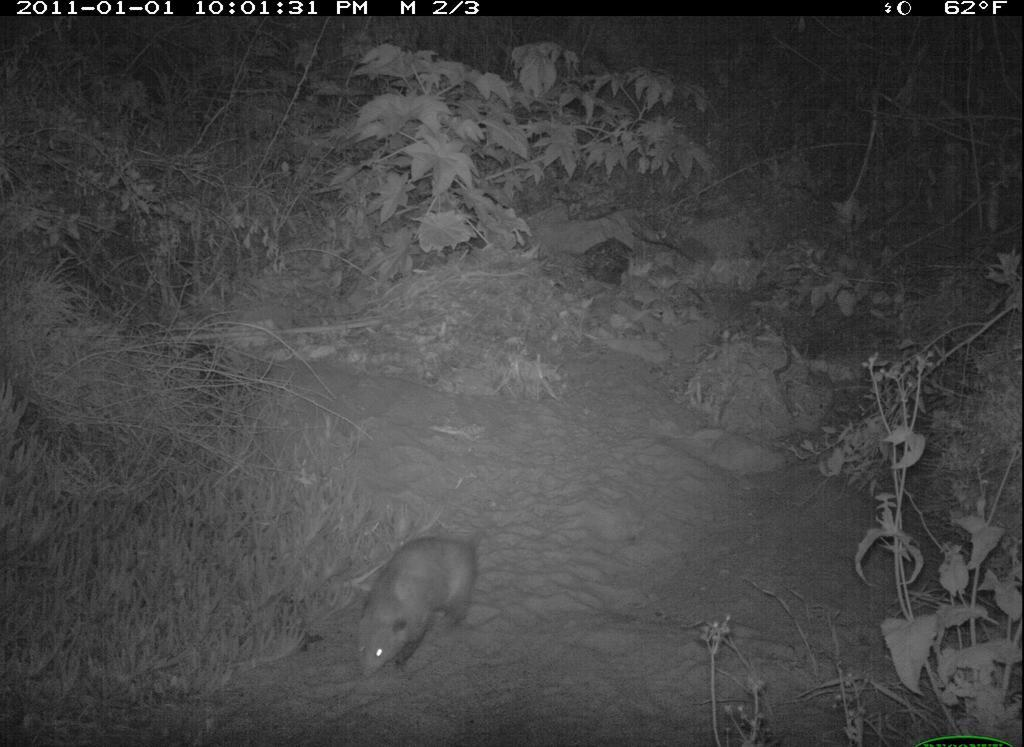opossum: (342, 516, 491, 698)
